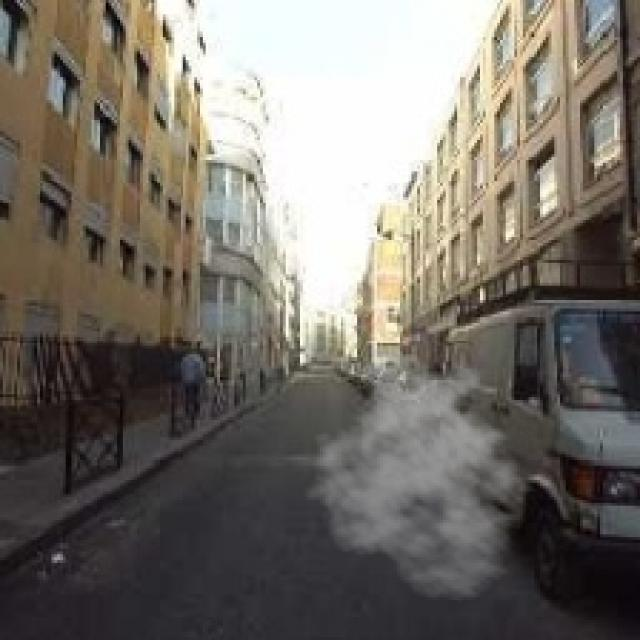Smoke: (303, 346, 546, 603)
